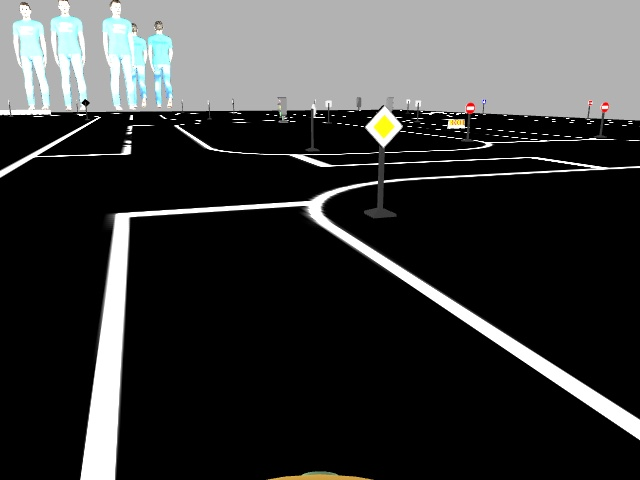Priority: (364, 104, 402, 147)
